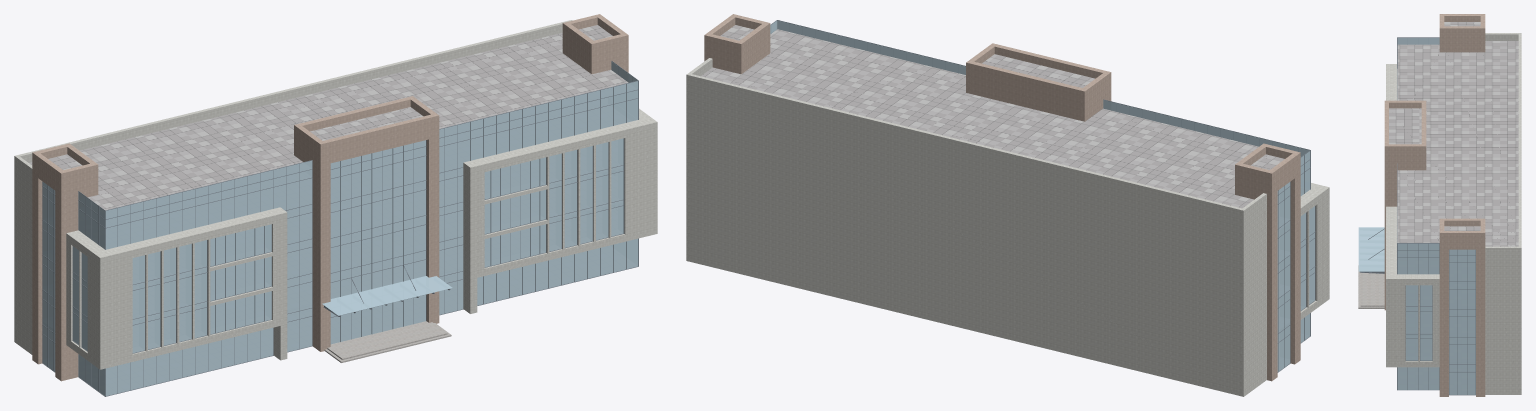
Rendered from 办公楼01.gltf.
3 renders of one model, left to right at view 1: azimuth 30°, elevation 25°; view 2: azimuth 150°, elevation 25°; view 3: azimuth 270°, elevation 25°, orthographic. The views are drawn at different scales.
Visible parts, largest first — view 1: 办公楼01; view 2: 办公楼01; view 3: 办公楼01.
Part boxes in pixels (x1,y1,x2,y2): 办公楼01: (14, 14, 657, 396); 办公楼01: (686, 14, 1329, 396); 办公楼01: (1358, 14, 1521, 396).
Bounding box in the file's own units: 66.97 × 23.42 × 21.14.
Materials: 6 (4 with a texture image).
